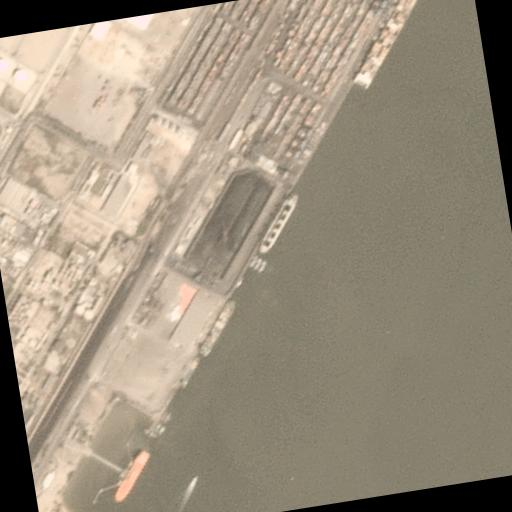ship: (335, 0, 429, 90), (252, 193, 304, 251), (192, 298, 244, 356), (104, 446, 156, 502), (175, 356, 203, 390), (246, 255, 258, 268), (251, 258, 262, 270), (256, 262, 266, 274), (189, 477, 198, 486)
